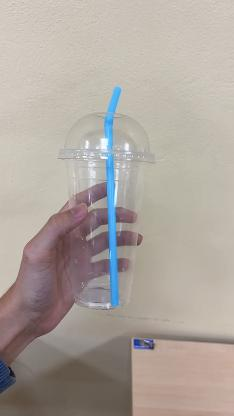Plastic Cup: (58, 110, 156, 310)
